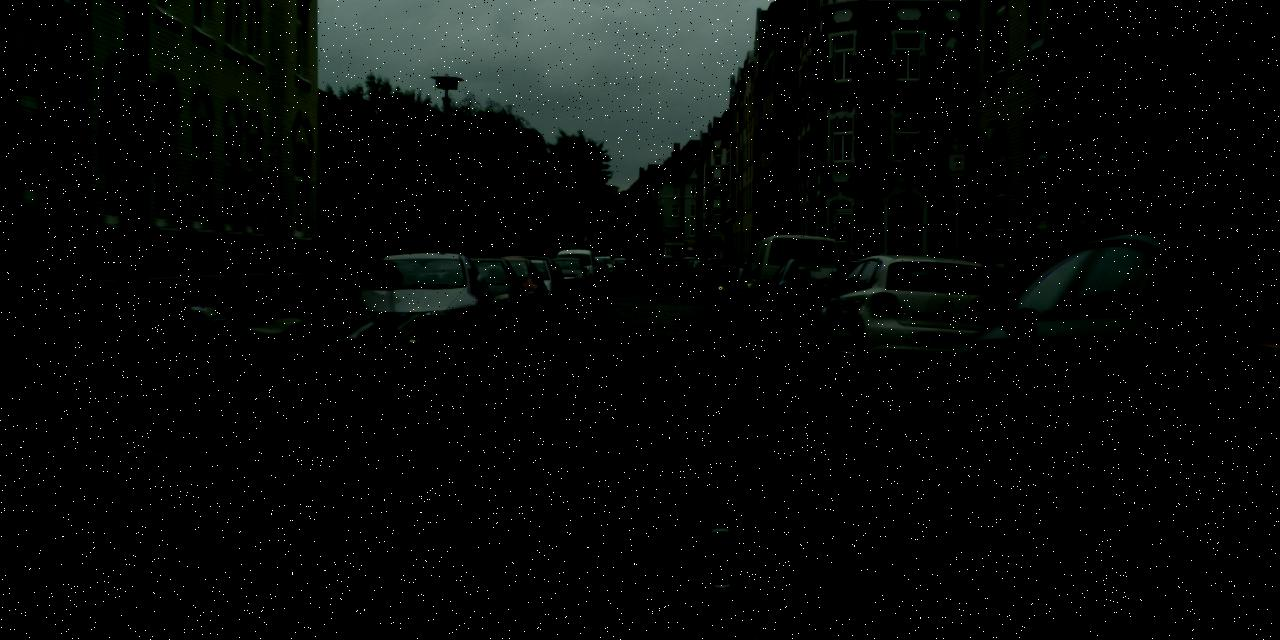ped: (341, 231, 376, 316), (299, 236, 334, 320), (641, 257, 649, 277)
